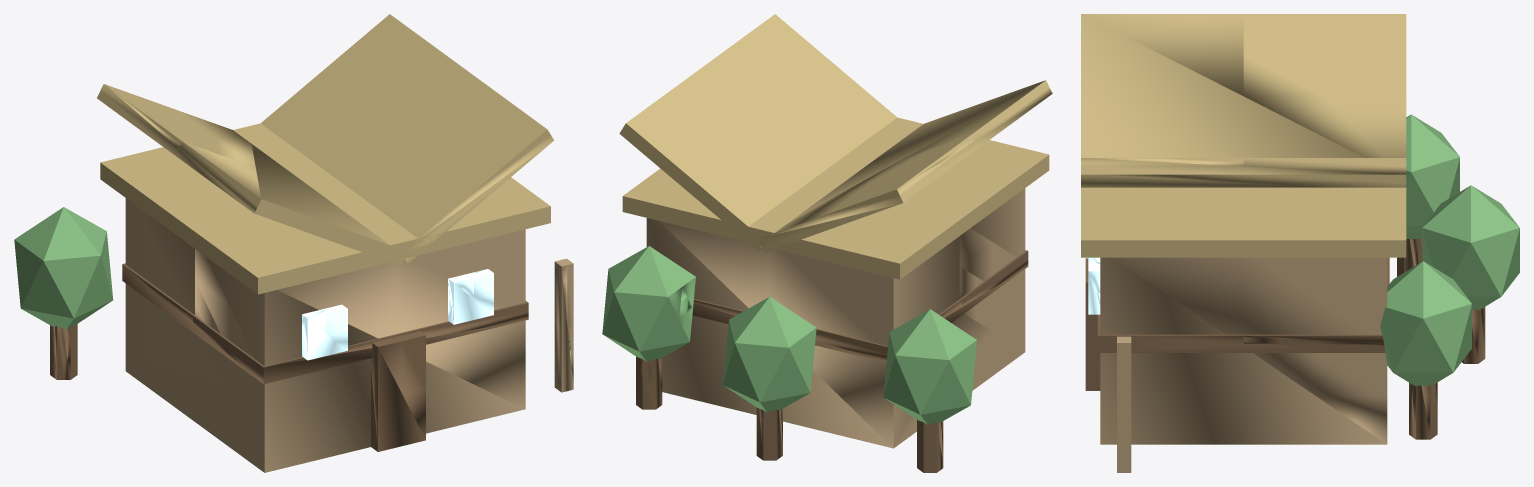
File: forester.glb
3 views of the same model, side by side, from view 1: azimuth 30°, elevation 25°; view 2: azimuth 150°, elevation 25°; view 3: azimuth 270°, elevation 25° (orthographic). The views are drawn at different scales.
Visible parts, largest first — view 1: ForesterWall; view 2: ForesterWall; view 3: ForesterWall.
Part boxes in pixels (x1,y1,x2,y2): ForesterWall: (14, 14, 573, 472); ForesterWall: (602, 14, 1052, 472); ForesterWall: (1081, 14, 1519, 472).
Size of the model in its own units: 2.04 by 1.35 by 1.83.
